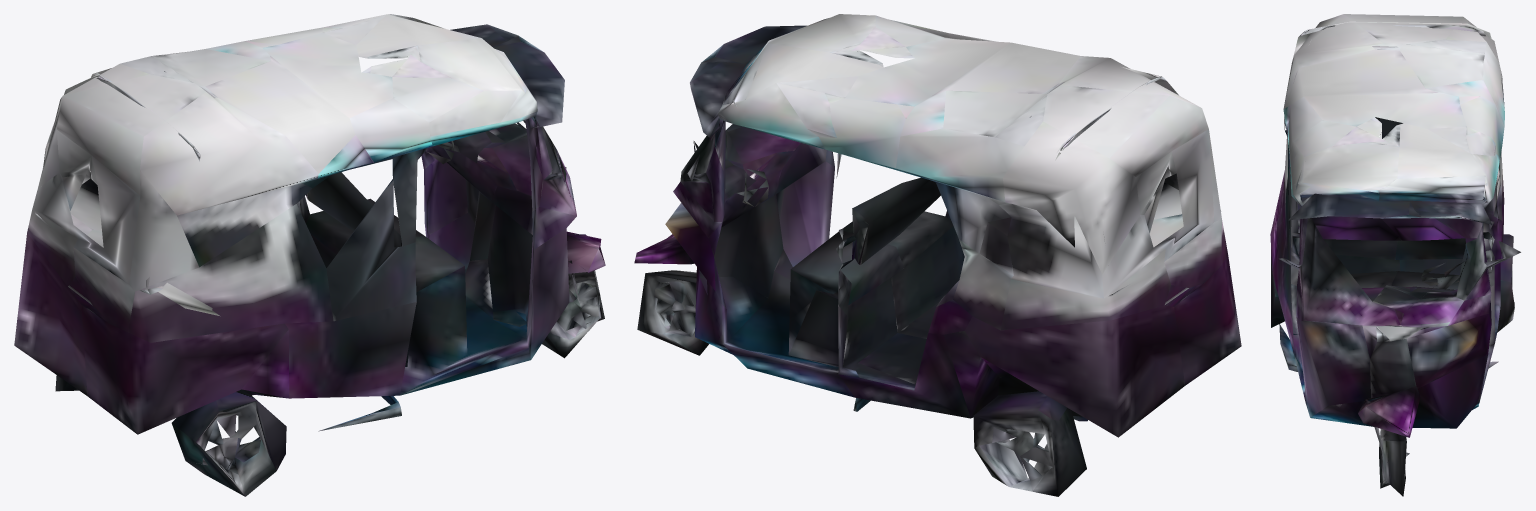
The model's file is tukneon_2.glb.
3 views of the same model, side by side, from view 1: azimuth 30°, elevation 25°; view 2: azimuth 150°, elevation 25°; view 3: azimuth 270°, elevation 25° (orthographic). The views are drawn at different scales.
Visible parts, largest first — view 1: tripo_node_734a81c6-f51c-408d-b84c-cd78e36b5d59; view 2: tripo_node_734a81c6-f51c-408d-b84c-cd78e36b5d59; view 3: tripo_node_734a81c6-f51c-408d-b84c-cd78e36b5d59.
Part boxes in pixels (x1,y1,x2,y2): tripo_node_734a81c6-f51c-408d-b84c-cd78e36b5d59: [14, 14, 605, 496]; tripo_node_734a81c6-f51c-408d-b84c-cd78e36b5d59: [634, 14, 1241, 496]; tripo_node_734a81c6-f51c-408d-b84c-cd78e36b5d59: [1270, 14, 1520, 496].
Bounding box in the file's own units: 0.9815 × 0.6169 × 0.4714.
1 material, 1 textured.
